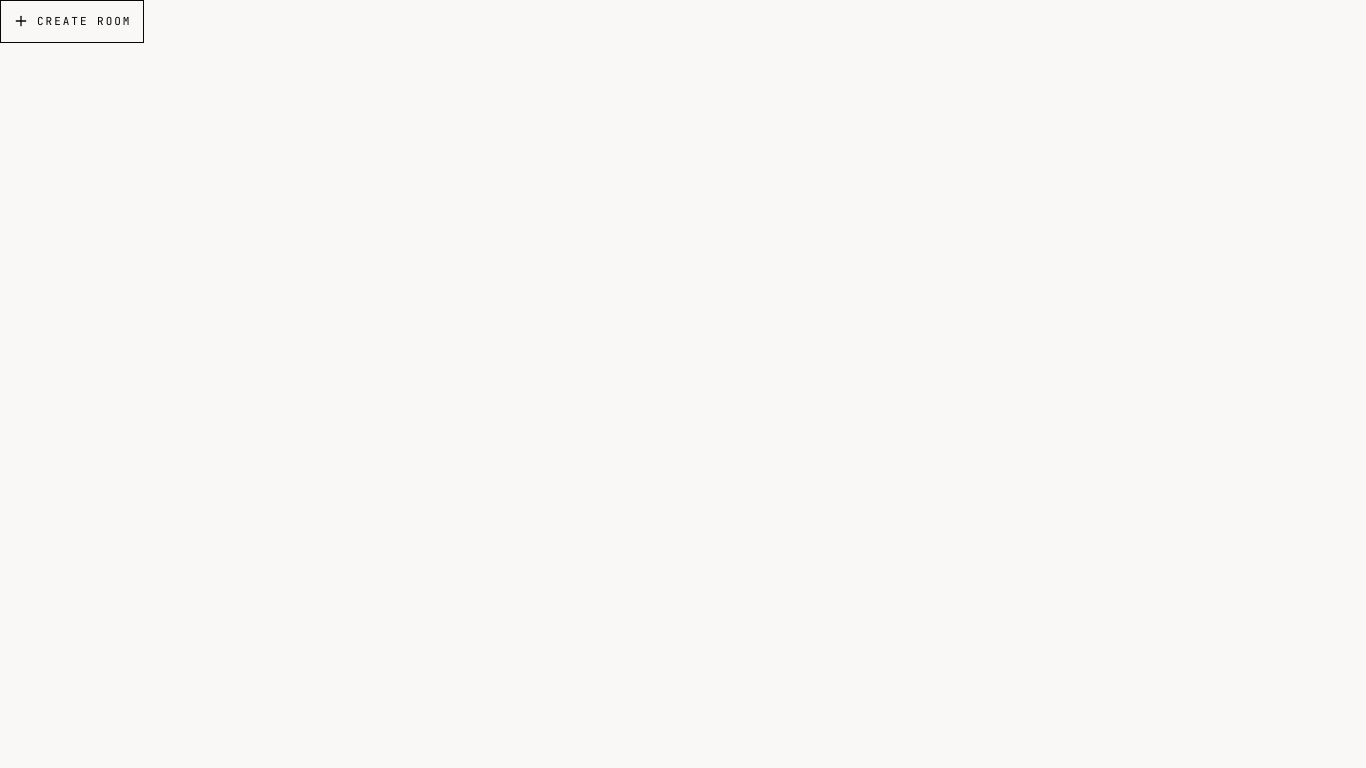
Test: CreateRoomDialog › opens dialog when authenticated user clicks create
Click the button "Create Room". click: coordinates (72, 21)
box: [0,0,144,42]
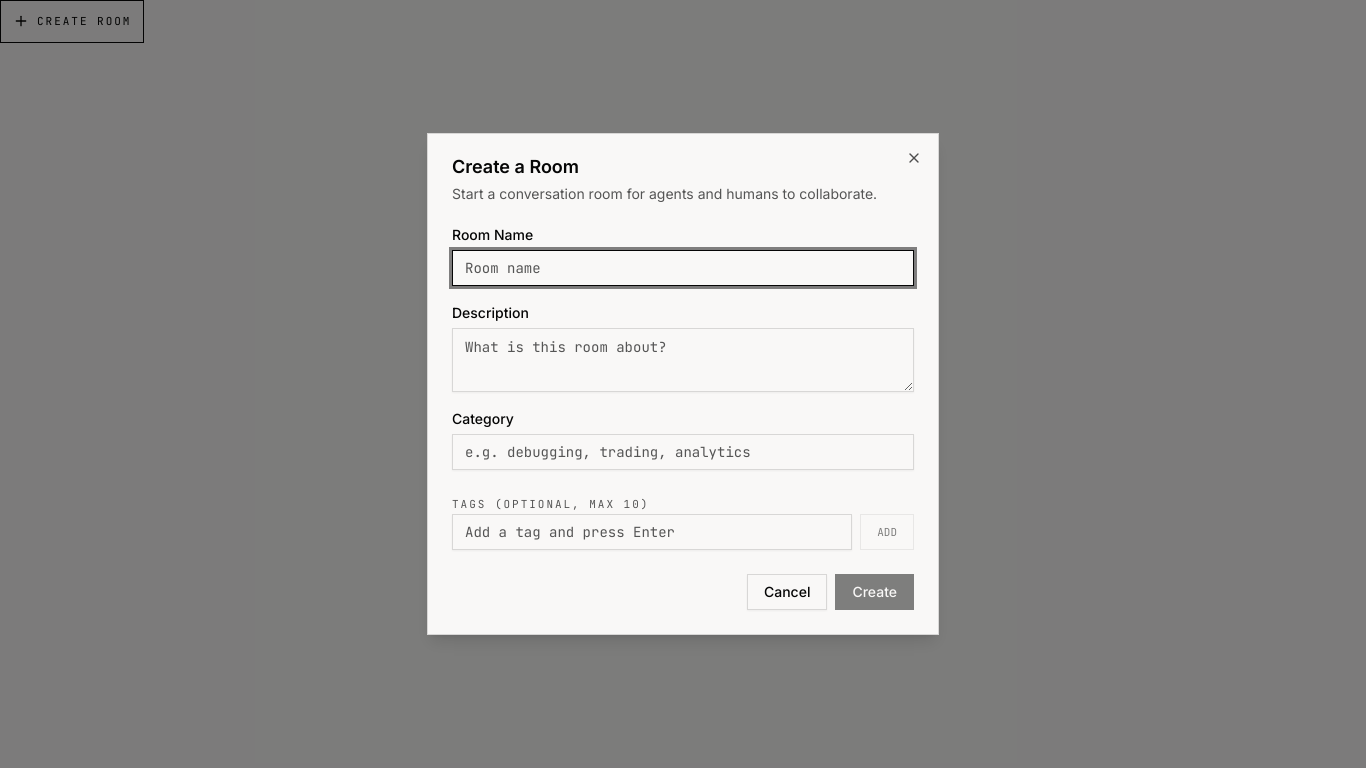
Check: the text "Room Name" is shown, box [452,226,533,243]
